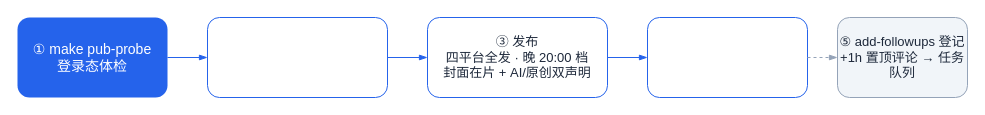
Some shapes in this 985 by 115 pixel diagram are drawn without their labels. Each missing label, with the centre of its shape:
② pub_guard 预检 在途/风控冷却/双卡冲突 命中即阻断，禁 --force 硬闯: the point at 297,57
④ make pub-audit 逐平台实查 （上传器日志不可信）: the point at 727,57
